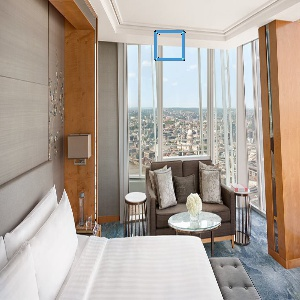square: (152, 27, 188, 64)
